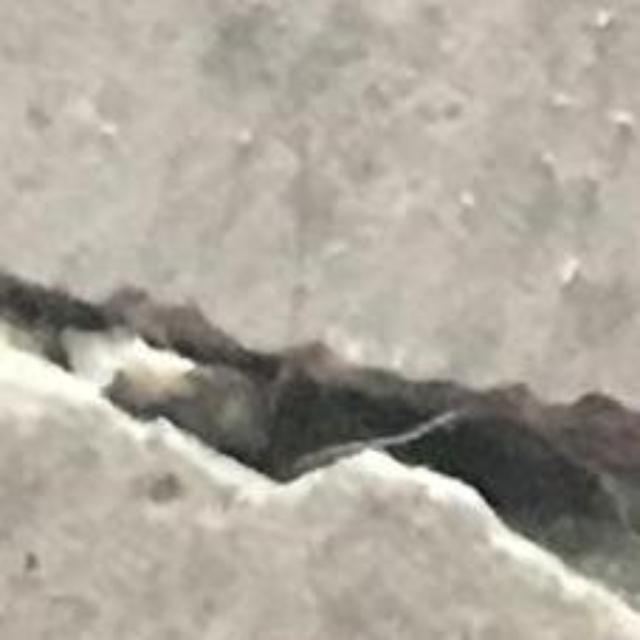crack: (0, 271, 639, 611)
